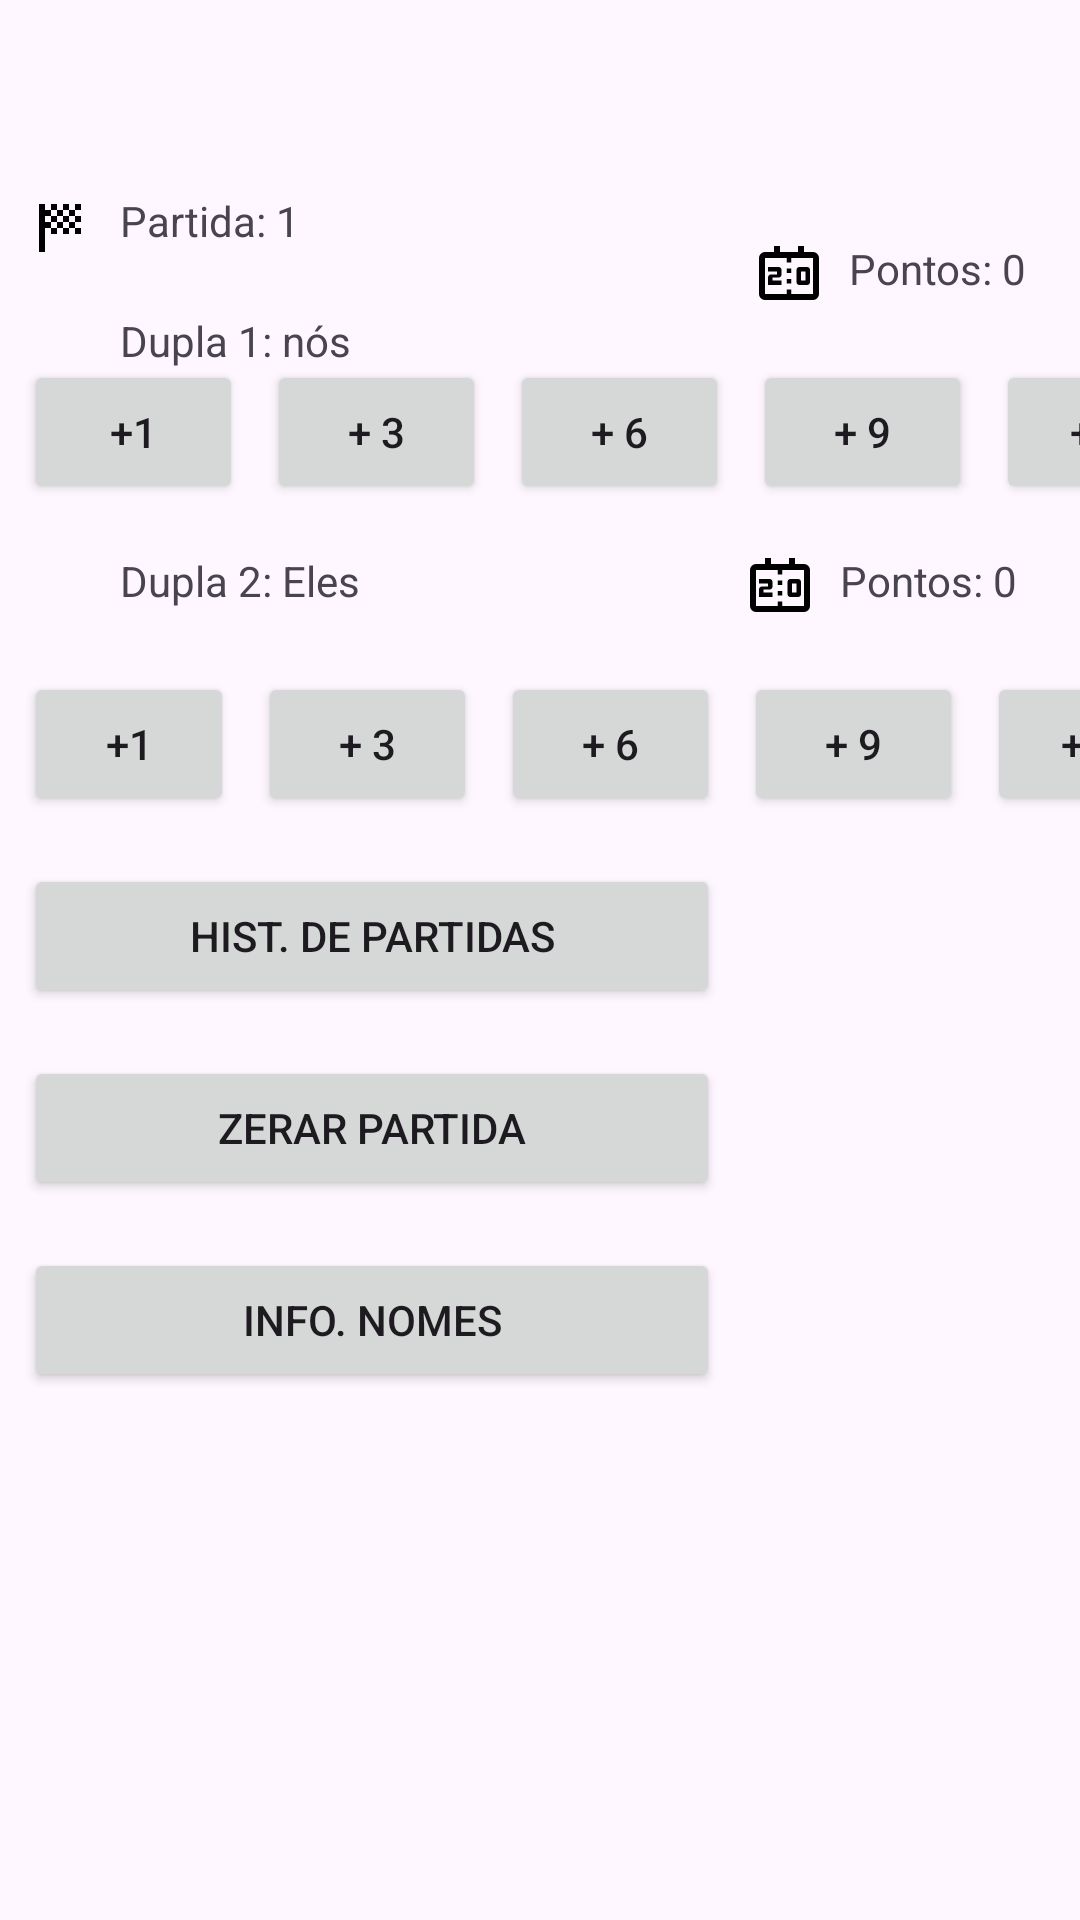

Icons on this 1080 × 1920 Android screen, each with its box as (x1, y1, x2, y2):
scoreboard: (759, 246, 819, 300), (750, 558, 810, 612)
